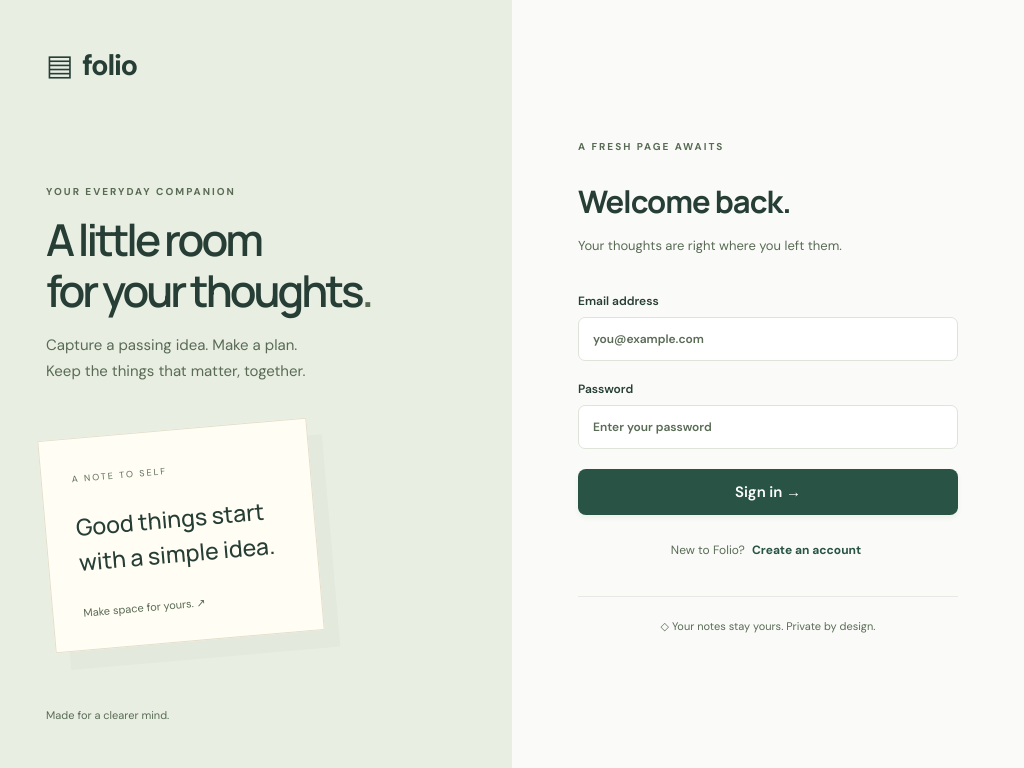
Scenario: signs in using entered credentials and reports errors
The width and height of the screenshot is (1024, 768).
Type "one@example.com" into the field labelled "Email address" at (768, 339), box [578, 317, 958, 361]
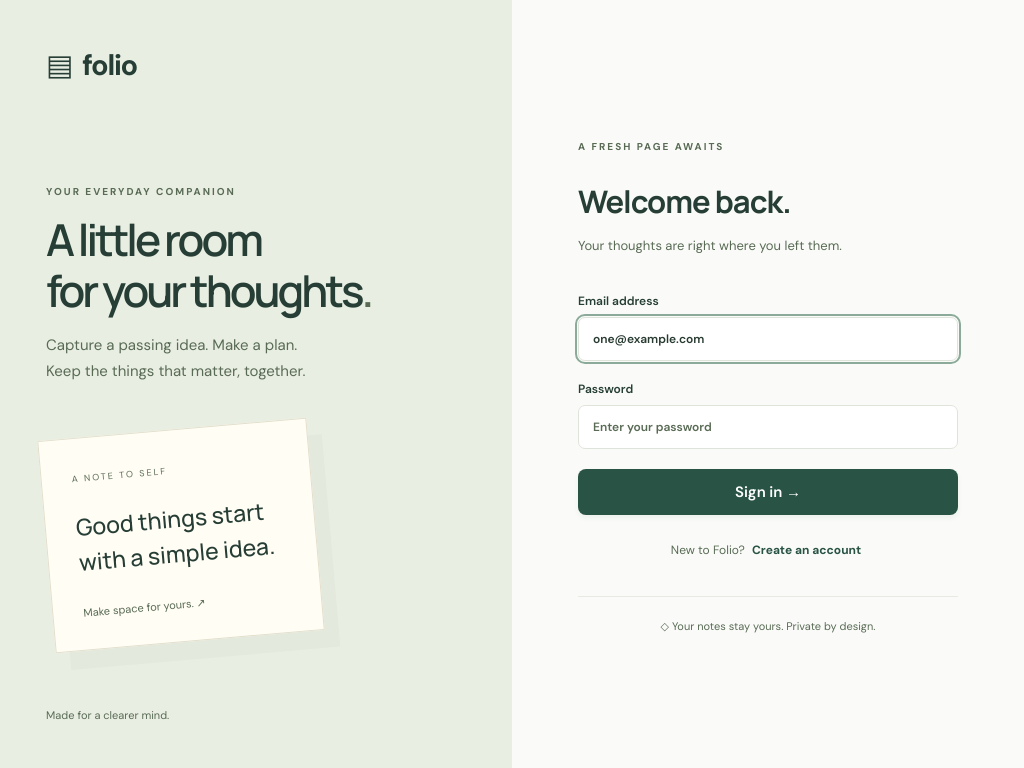
Type "wrong" into the password field labelled "Password" at (768, 427), box [578, 405, 958, 449]
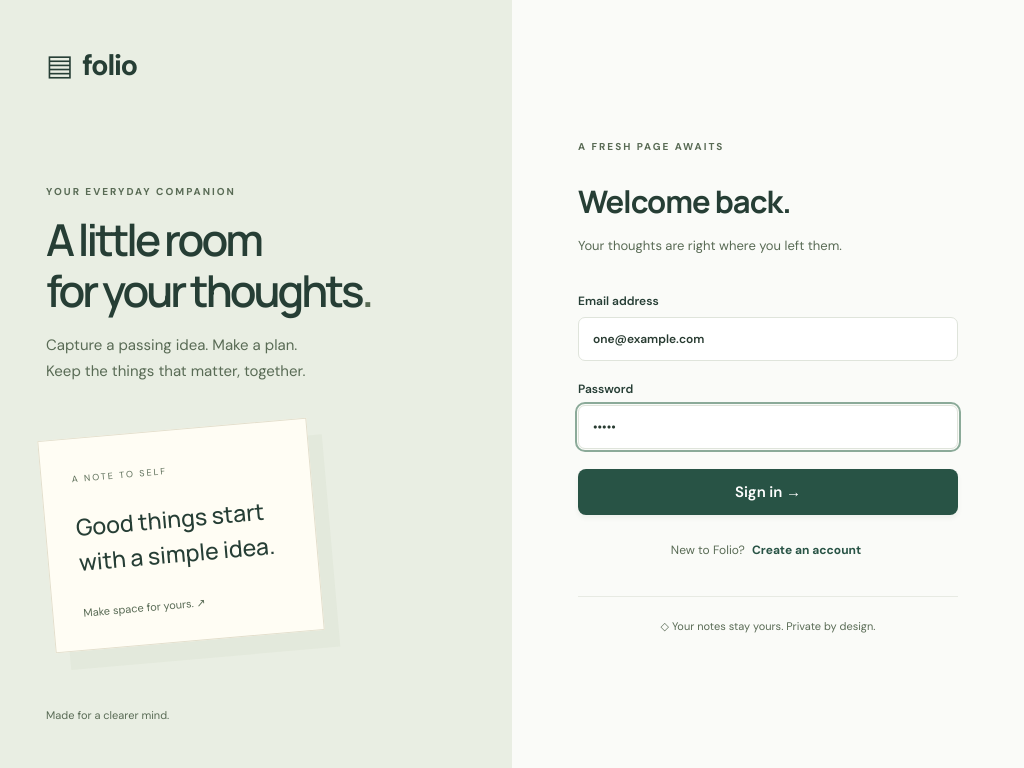
Click the button "Sign in →" at (768, 492), box [578, 469, 958, 515]
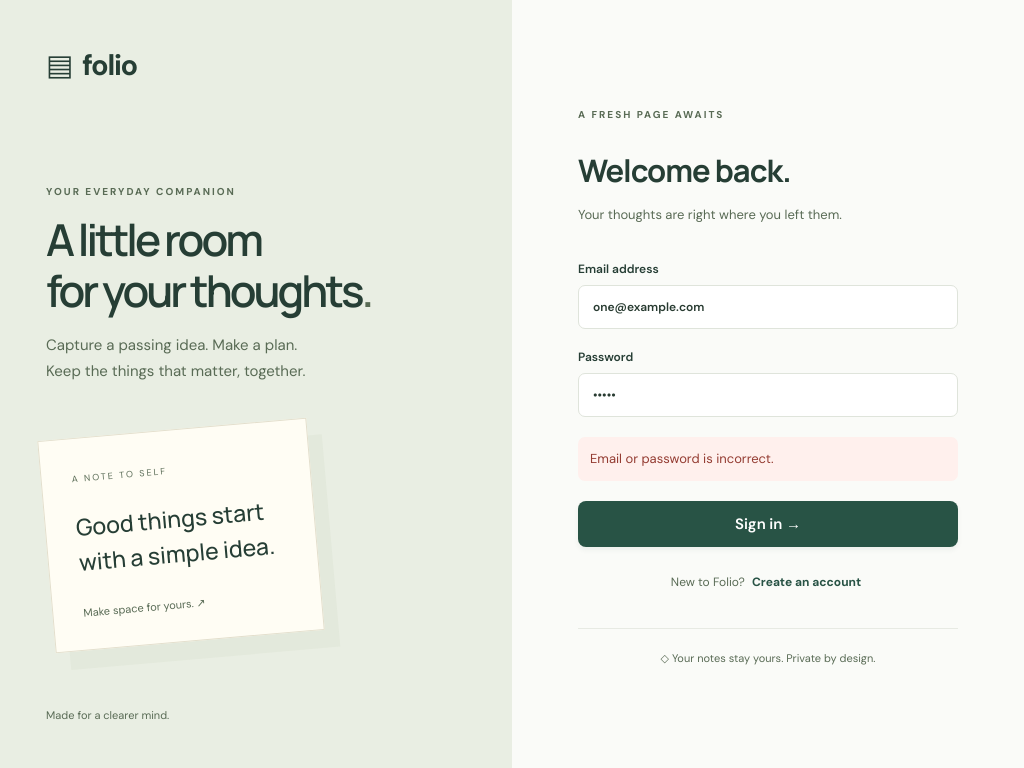
Check: the message shows "Email or password is incorrect", box [590, 450, 774, 468]
